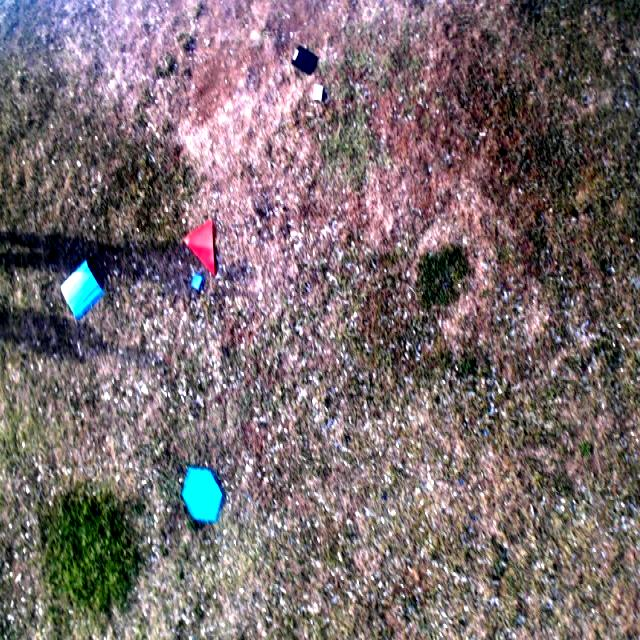blue_hexagon: (178, 467, 227, 525)
blue_square: (58, 260, 105, 321), (192, 274, 202, 290)
red_triangle: (180, 219, 215, 279)
